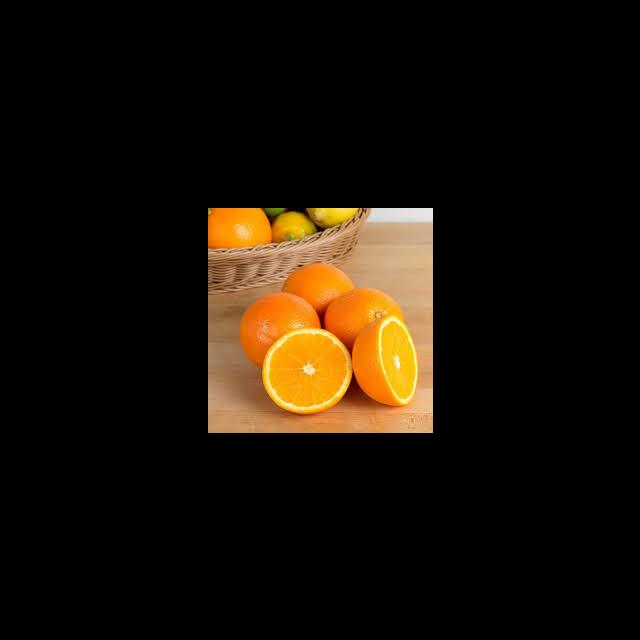orange: (252, 321, 361, 417), (235, 281, 329, 366), (323, 273, 417, 355), (192, 198, 283, 273), (347, 318, 419, 411), (279, 256, 354, 320)
